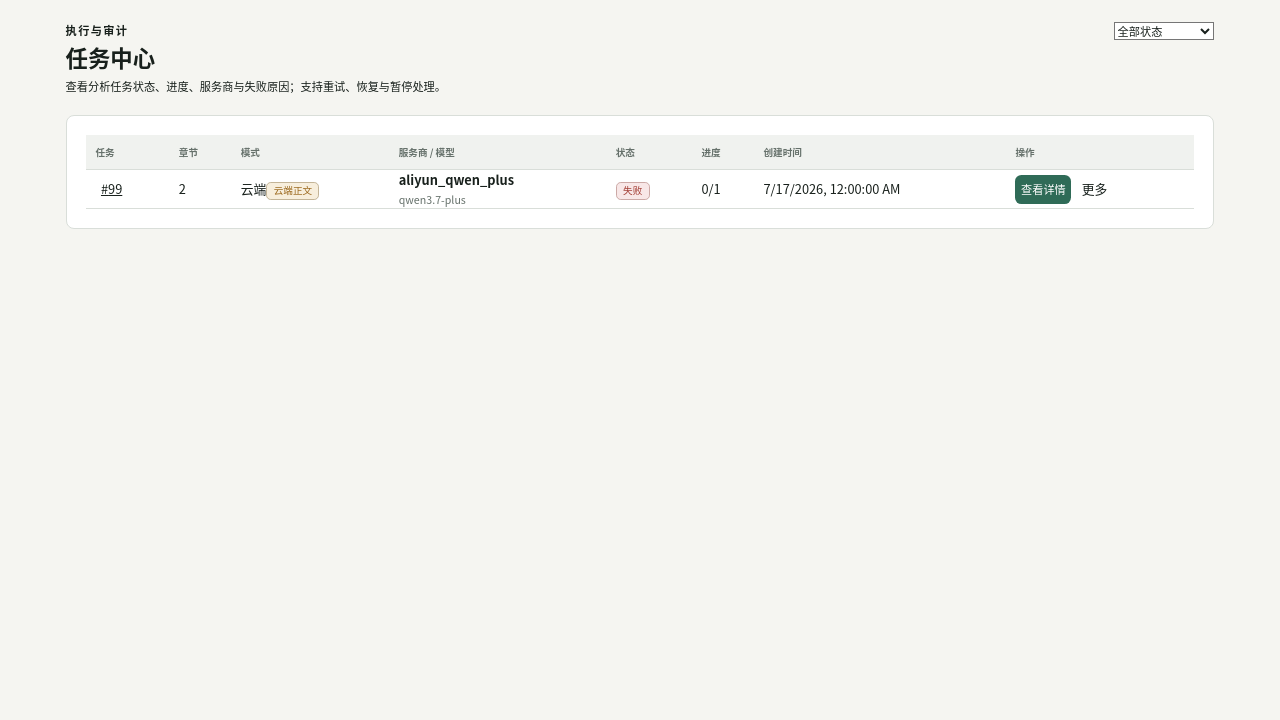
Test: TasksPage 传输错误展示 › Provider传输错误中文化阶段
Click the button "查看详情": (1043, 189) [1015,175,1071,204]
(page scrolled)
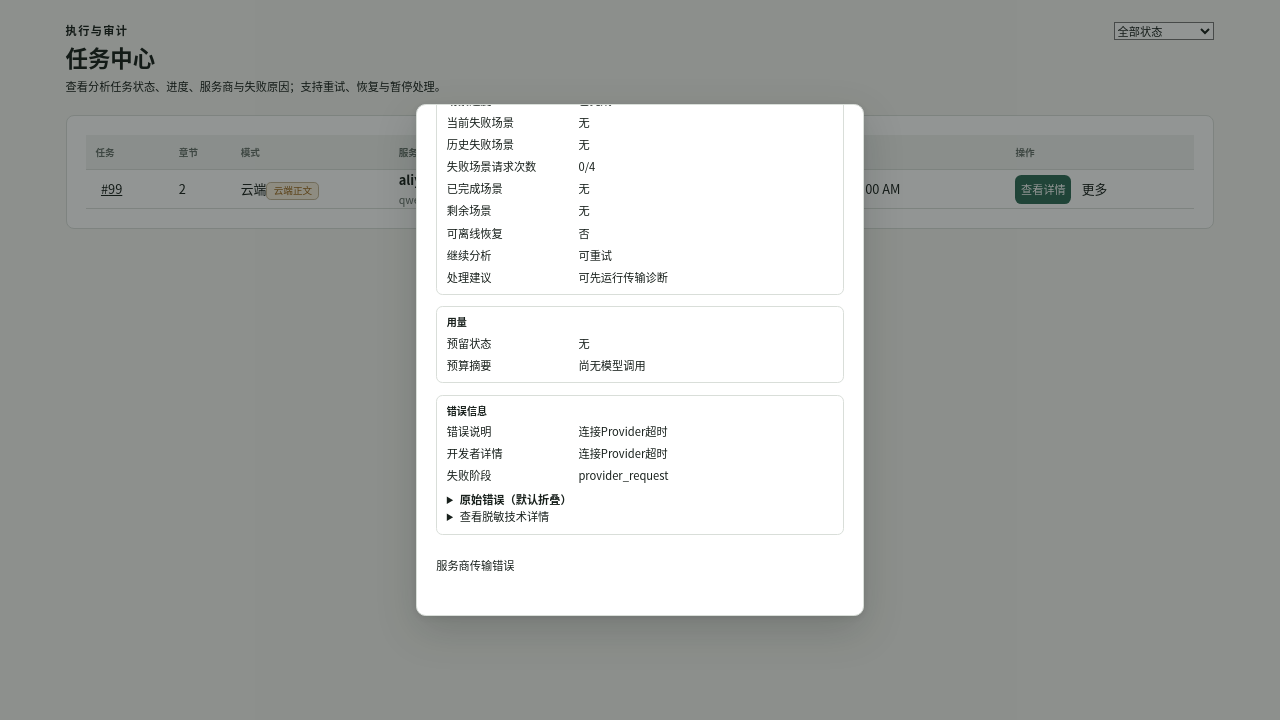
Expected: the text "可重试" is shown, [578,247,612,263]
Expected: the text "服务商传输错误" is shown, [436,557,514,573]
